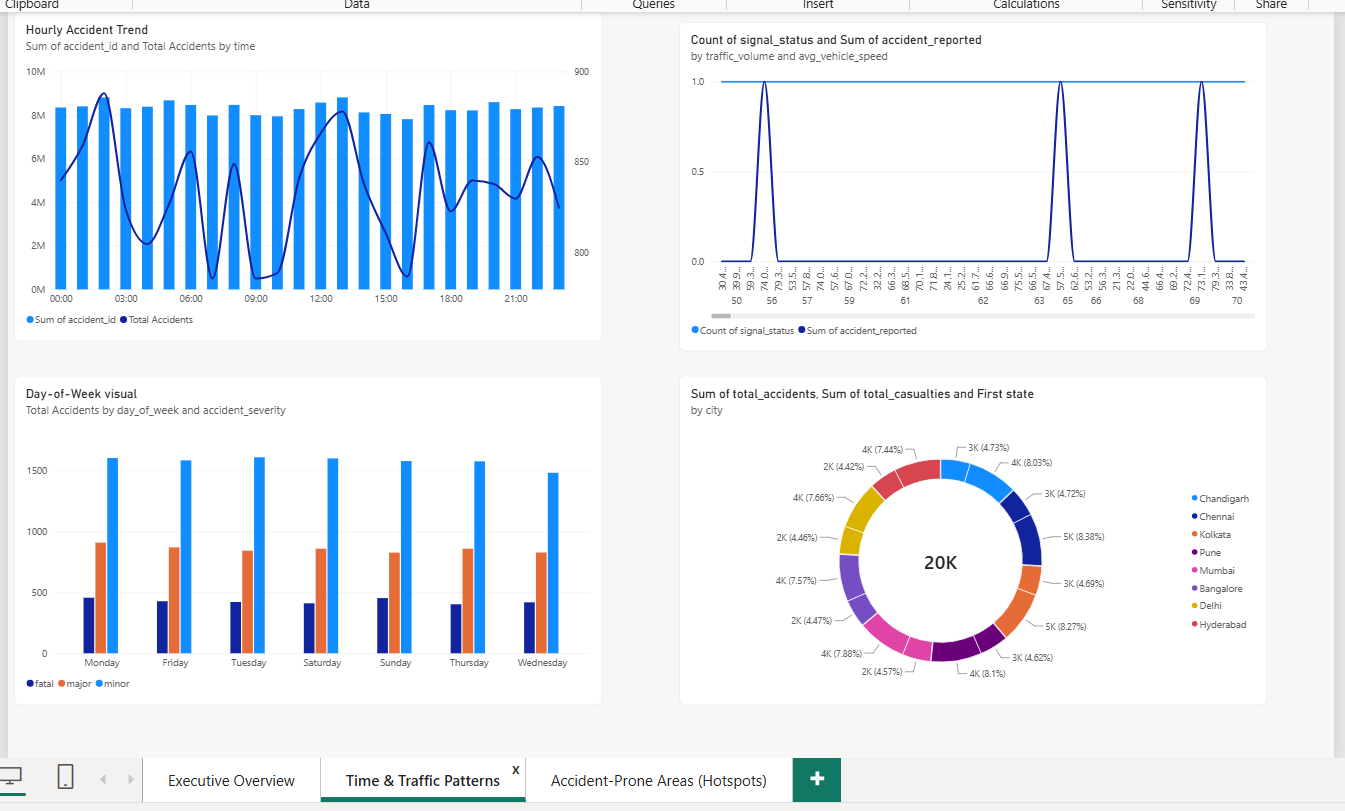

Layout of this report page (visuals, bound fields, positions):
{"tool":"powerbi","page":{"name":"Time & Traffic Patterns","canvas":[1920,1080],"ordinal":1},"visuals":[{"type":"lineClusteredColumnComboChart","title":"Hourly Accident Trend","fields":{"Category":["cleaned_indian_roads.time"],"Y":["Sum(cleaned_indian_roads.accident_id)"],"Y2":["cleaned_indian_roads.Total Accidents"]},"box":[9.5,0,851.4,476.8],"z":0},{"type":"clusteredColumnChart","title":"Day-of-Week visual","fields":{"Category":["cleaned_indian_roads.day_of_week"],"Series":["cleaned_indian_roads.accident_severity"],"Y":["cleaned_indian_roads.Total Accidents"]},"box":[9.5,526,851,477],"z":1000},{"type":"lineChart","fields":{"Category":["smart_traffic_management_dataset.traffic_volume","smart_traffic_management_dataset.avg_vehicle_speed"],"Y":["CountNonNull(smart_traffic_management_dataset.signal_status)","Sum(smart_traffic_management_dataset.accident_reported)"]},"box":[972.5,15.1,851,477],"z":2000},{"type":"donutChart","fields":{"Category":["city_wise_summary.city"],"Y":["Sum(city_wise_summary.total_accidents)","Sum(city_wise_summary.total_casualties)"]},"box":[972,526,851,477],"z":3000}]}

Visuals, with their boxes on the page's 1920x1080 design canvas (x1, y1, x2, y2). These are canvas units, not pixel positions in the 1345x811 screenshot, which may show the page scaled, cropped or inside an application window:
"Hourly Accident Trend" lineClusteredColumnComboChart: (left=10, top=0, right=861, bottom=477)
"Day-of-Week visual" clusteredColumnChart: (left=10, top=526, right=860, bottom=1003)
lineChart - smart_traffic_management_dataset.traffic_volume x smart_traffic_management_dataset.avg_vehicle_speed: (left=972, top=15, right=1824, bottom=492)
donutChart - city_wise_summary.city x Sum(city_wise_summary.total_accidents): (left=972, top=526, right=1823, bottom=1003)
